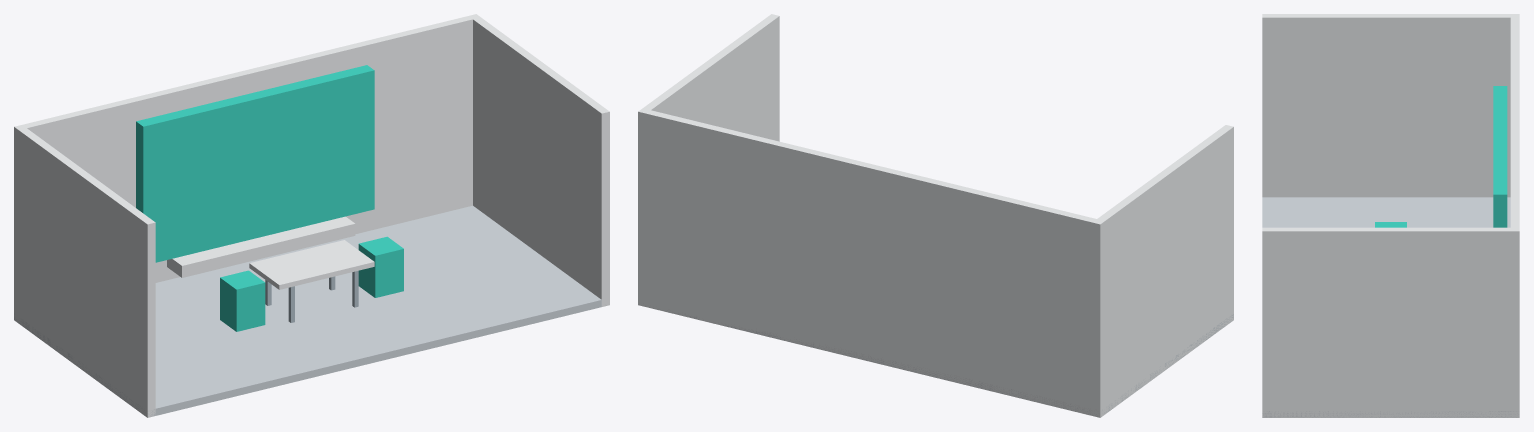
3 renders of one model, left to right at view 1: azimuth 30°, elevation 25°; view 2: azimuth 150°, elevation 25°; view 3: azimuth 270°, elevation 25°, orthographic. The views are drawn at different scales.
Parts seen in each view (by area): view 1: Exhibition Booth Concept; view 2: Exhibition Booth Concept; view 3: Exhibition Booth Concept.
Part boxes in pixels (x1,y1,x2,y2): Exhibition Booth Concept: [14, 14, 609, 417]; Exhibition Booth Concept: [638, 14, 1233, 417]; Exhibition Booth Concept: [1262, 14, 1519, 417].
Size of the model in its own units: 8 by 3.2 by 4.
